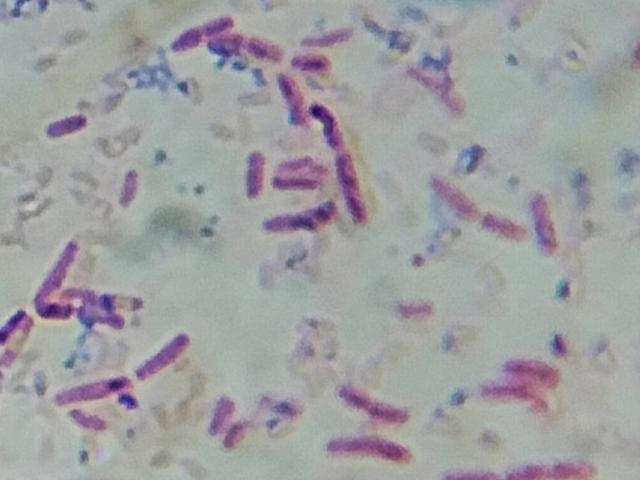E. coli: (448, 457, 597, 480), (329, 427, 419, 464), (28, 229, 79, 289), (131, 330, 193, 377), (49, 372, 137, 403), (338, 377, 400, 421), (263, 205, 344, 237), (533, 186, 565, 257), (172, 13, 235, 49), (338, 149, 368, 224), (269, 67, 305, 127), (39, 302, 122, 328), (298, 15, 361, 49), (502, 349, 566, 382), (483, 205, 530, 242), (429, 177, 476, 214), (313, 97, 346, 149), (488, 379, 552, 405), (43, 109, 92, 142), (278, 165, 325, 198), (242, 145, 270, 198), (248, 32, 288, 64), (2, 302, 31, 345), (202, 36, 249, 61), (289, 50, 331, 75), (118, 162, 140, 208), (208, 392, 230, 435), (226, 416, 242, 454)
